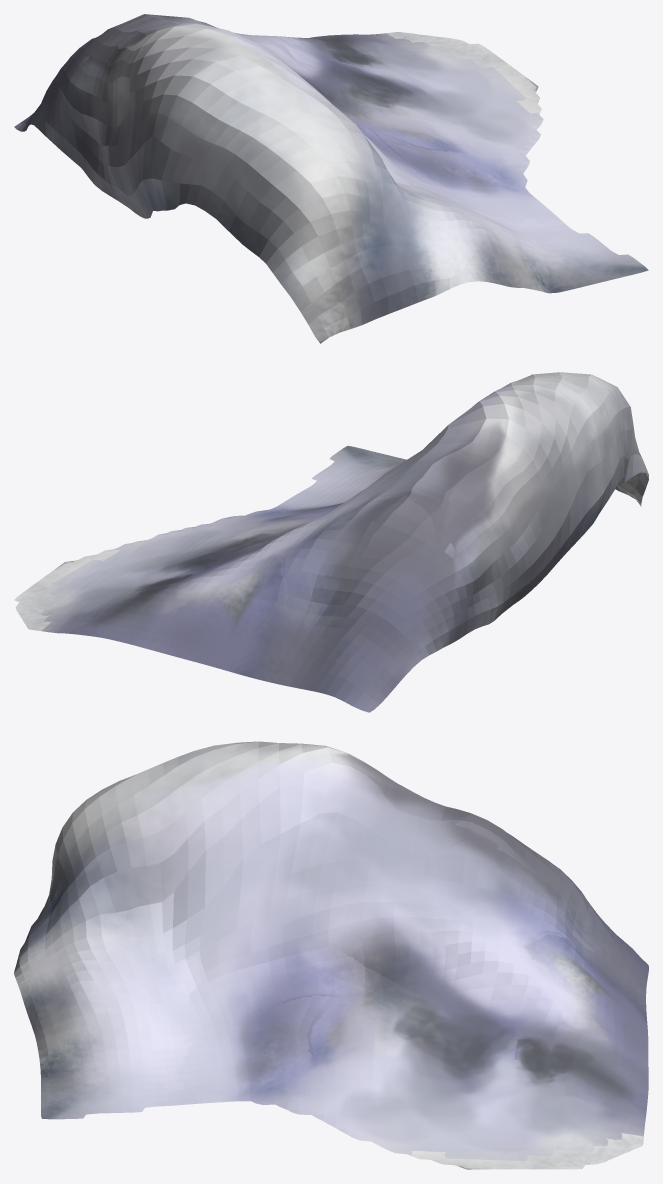
The model's file is hill 3.fbx.
The picture shows the model from 3 angles, top to bottom: view 1: azimuth 30°, elevation 25°; view 2: azimuth 150°, elevation 25°; view 3: azimuth 270°, elevation 25°; orthographic projection. The views are drawn at different scales.
Parts seen in each view (by area): view 1: Plane.001; view 2: Plane.001; view 3: Plane.001.
Boxes of the visible parts, <box> form: Plane.001: <box>14,14,648,343</box>; Plane.001: <box>14,372,648,712</box>; Plane.001: <box>14,741,648,1169</box>.
Size of the model in its own units: 3015 by 1283 by 3406.
